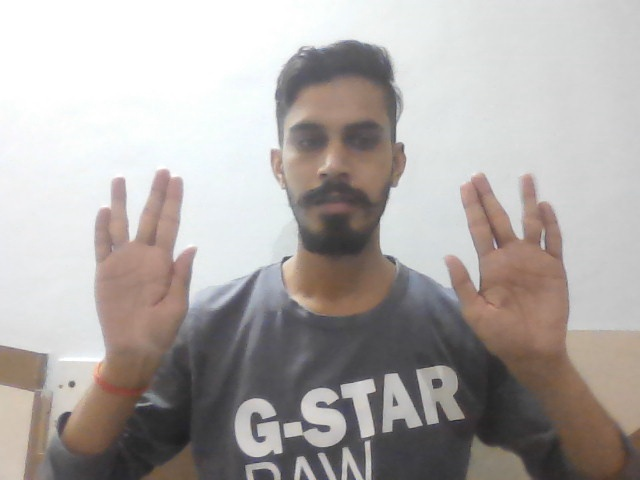LiveLong: (88, 164, 204, 364)
